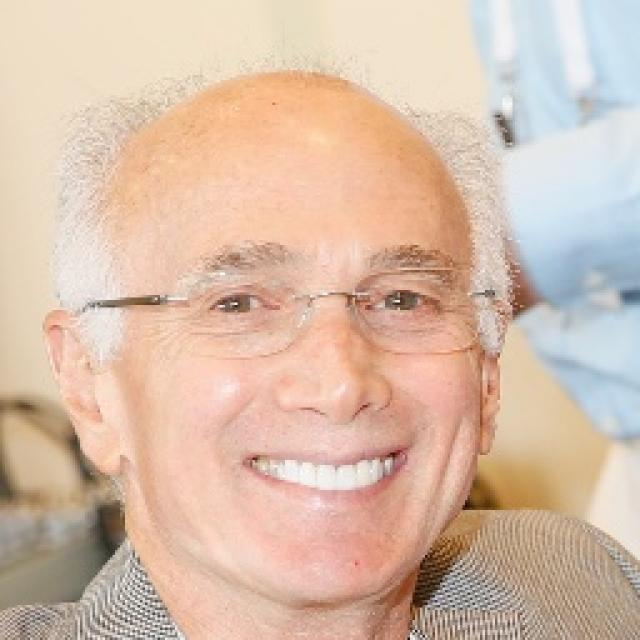earlobe: (39, 307, 125, 479), (477, 295, 514, 456)
